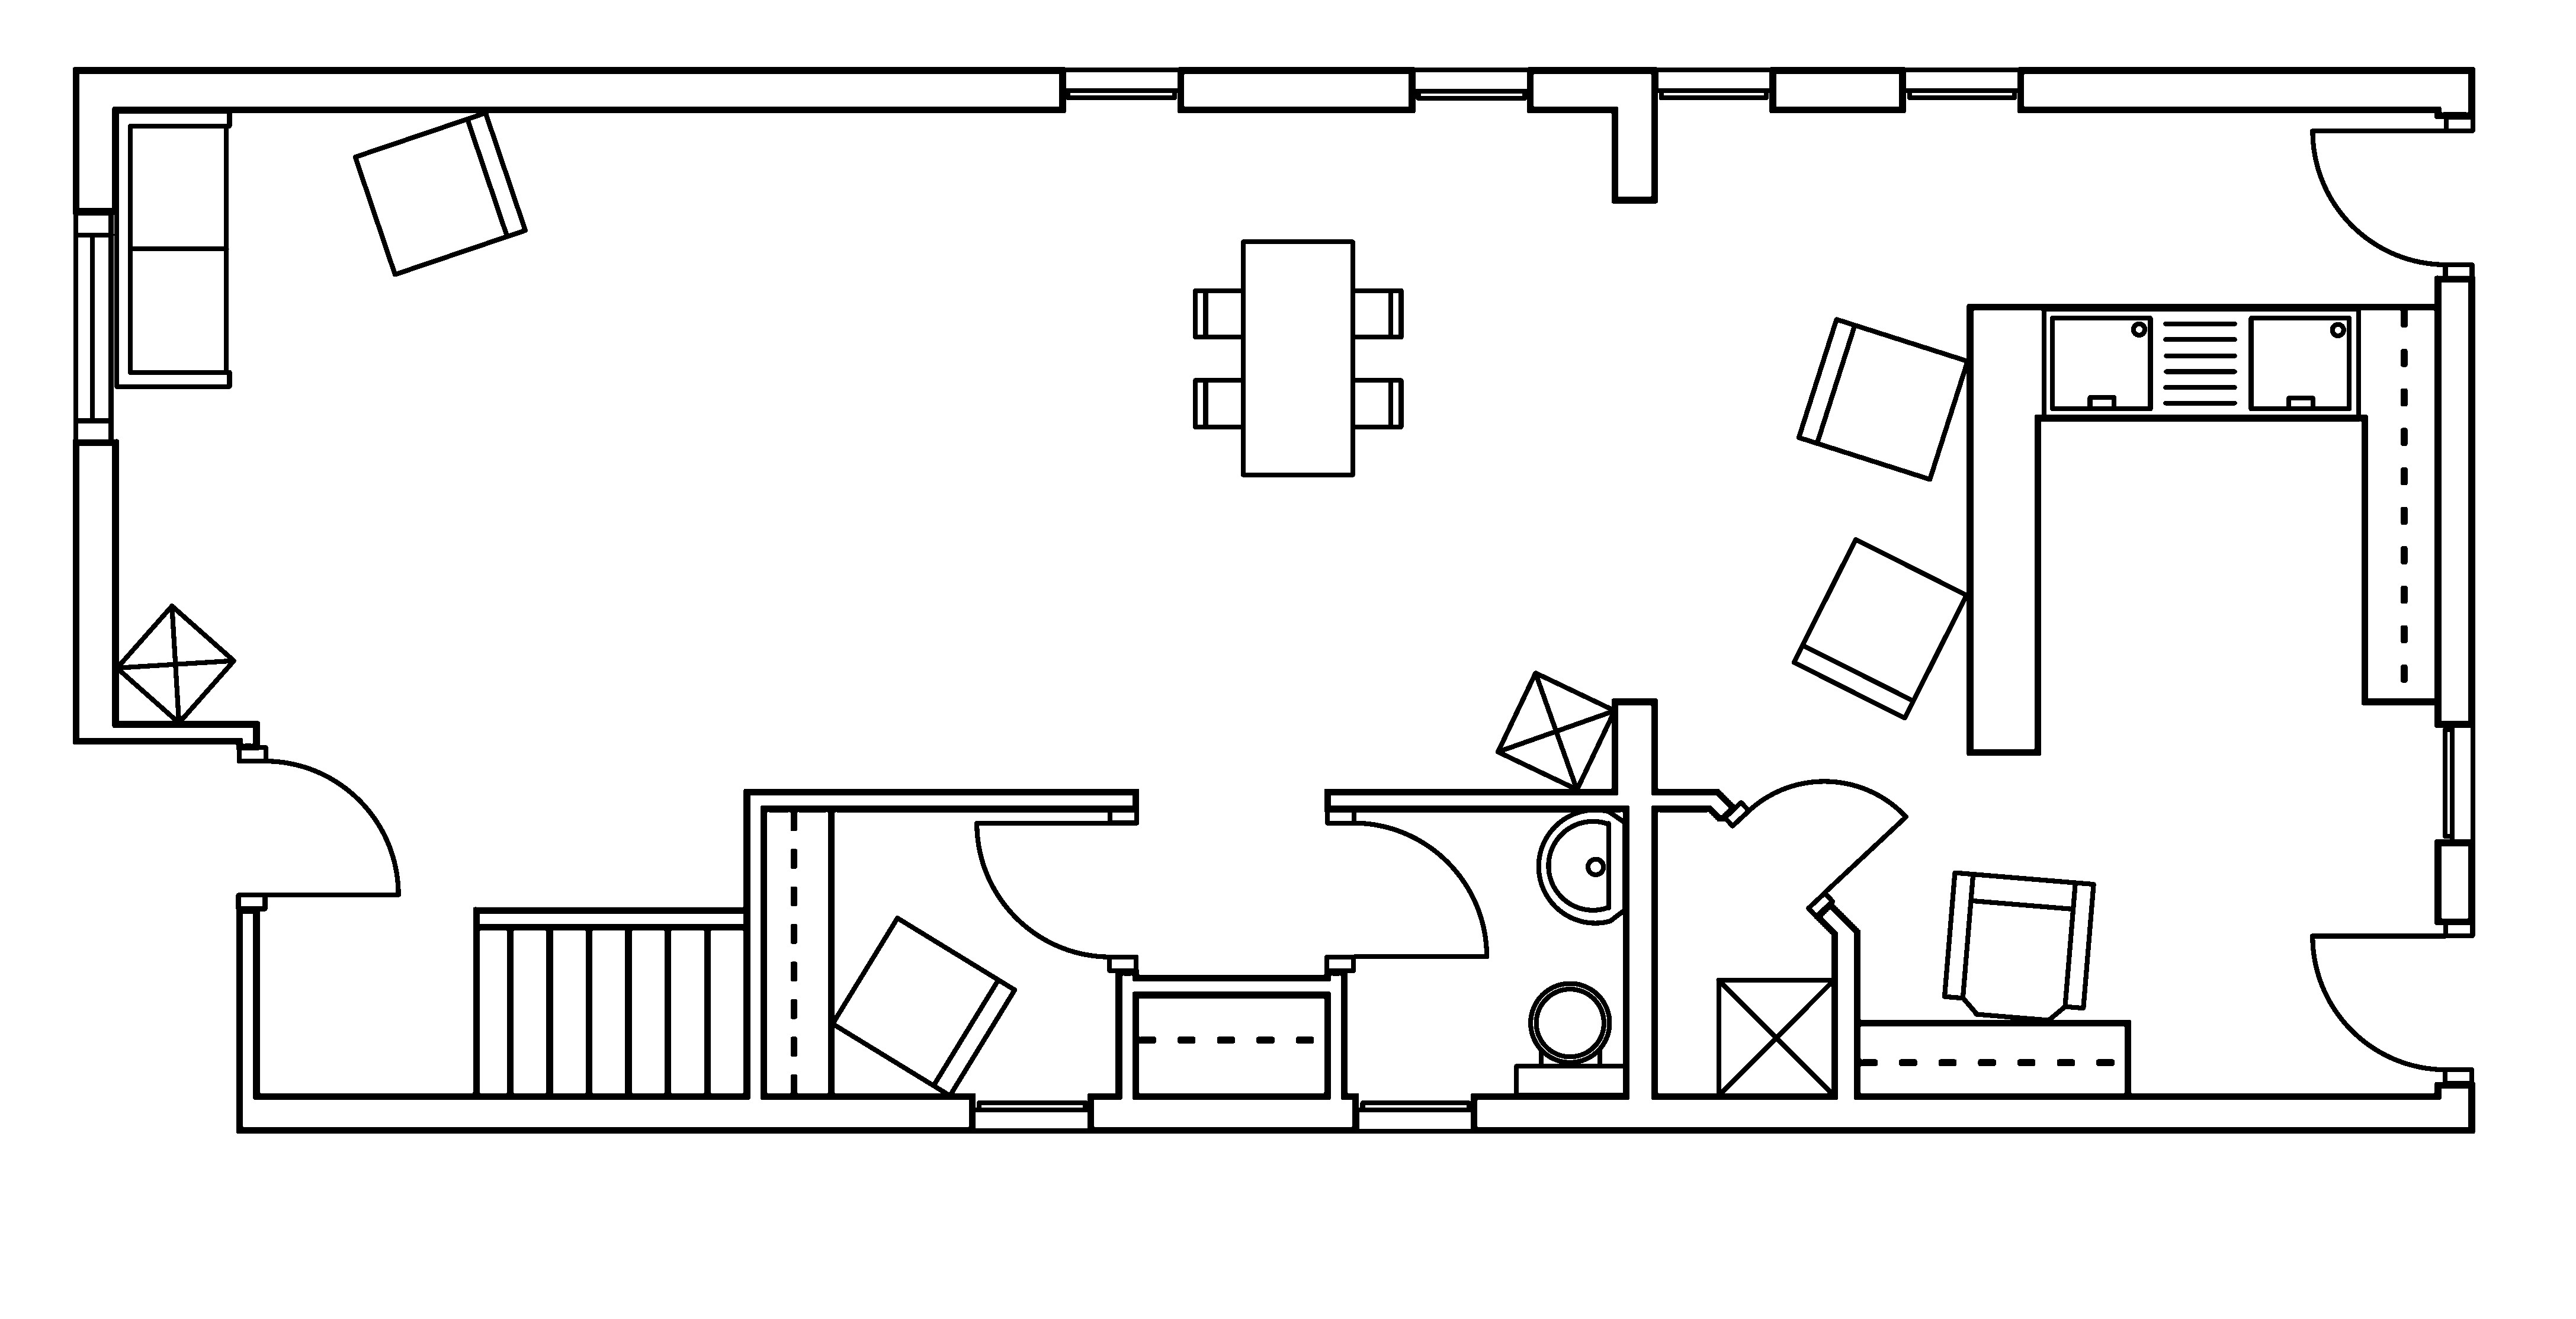armchair: (1940, 868, 2097, 1023)
coffee_table: (113, 602, 237, 725), (1493, 670, 1618, 792), (1715, 976, 1836, 1099)
dining_table: (1192, 239, 1404, 478)
large_sink: (1513, 981, 1628, 1097)
large_sofa: (113, 108, 232, 389)
small_sink: (1535, 808, 1628, 925)
small_sofa: (829, 915, 1017, 1099), (1791, 537, 1969, 720), (351, 109, 528, 278), (1796, 316, 1971, 481)
twin_sink: (2040, 305, 2361, 421)
